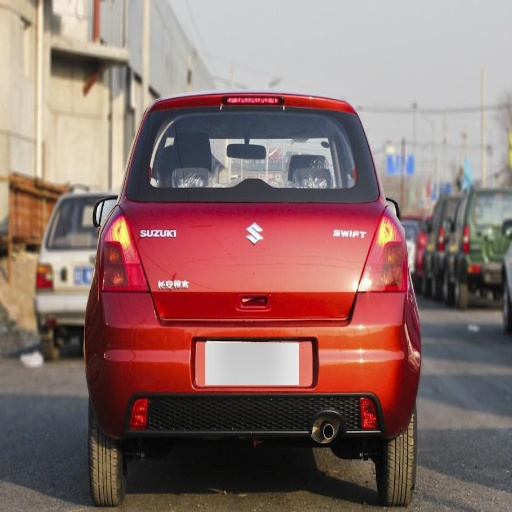back_bumper: (93, 291, 419, 440)
trunk: (128, 186, 385, 365)
